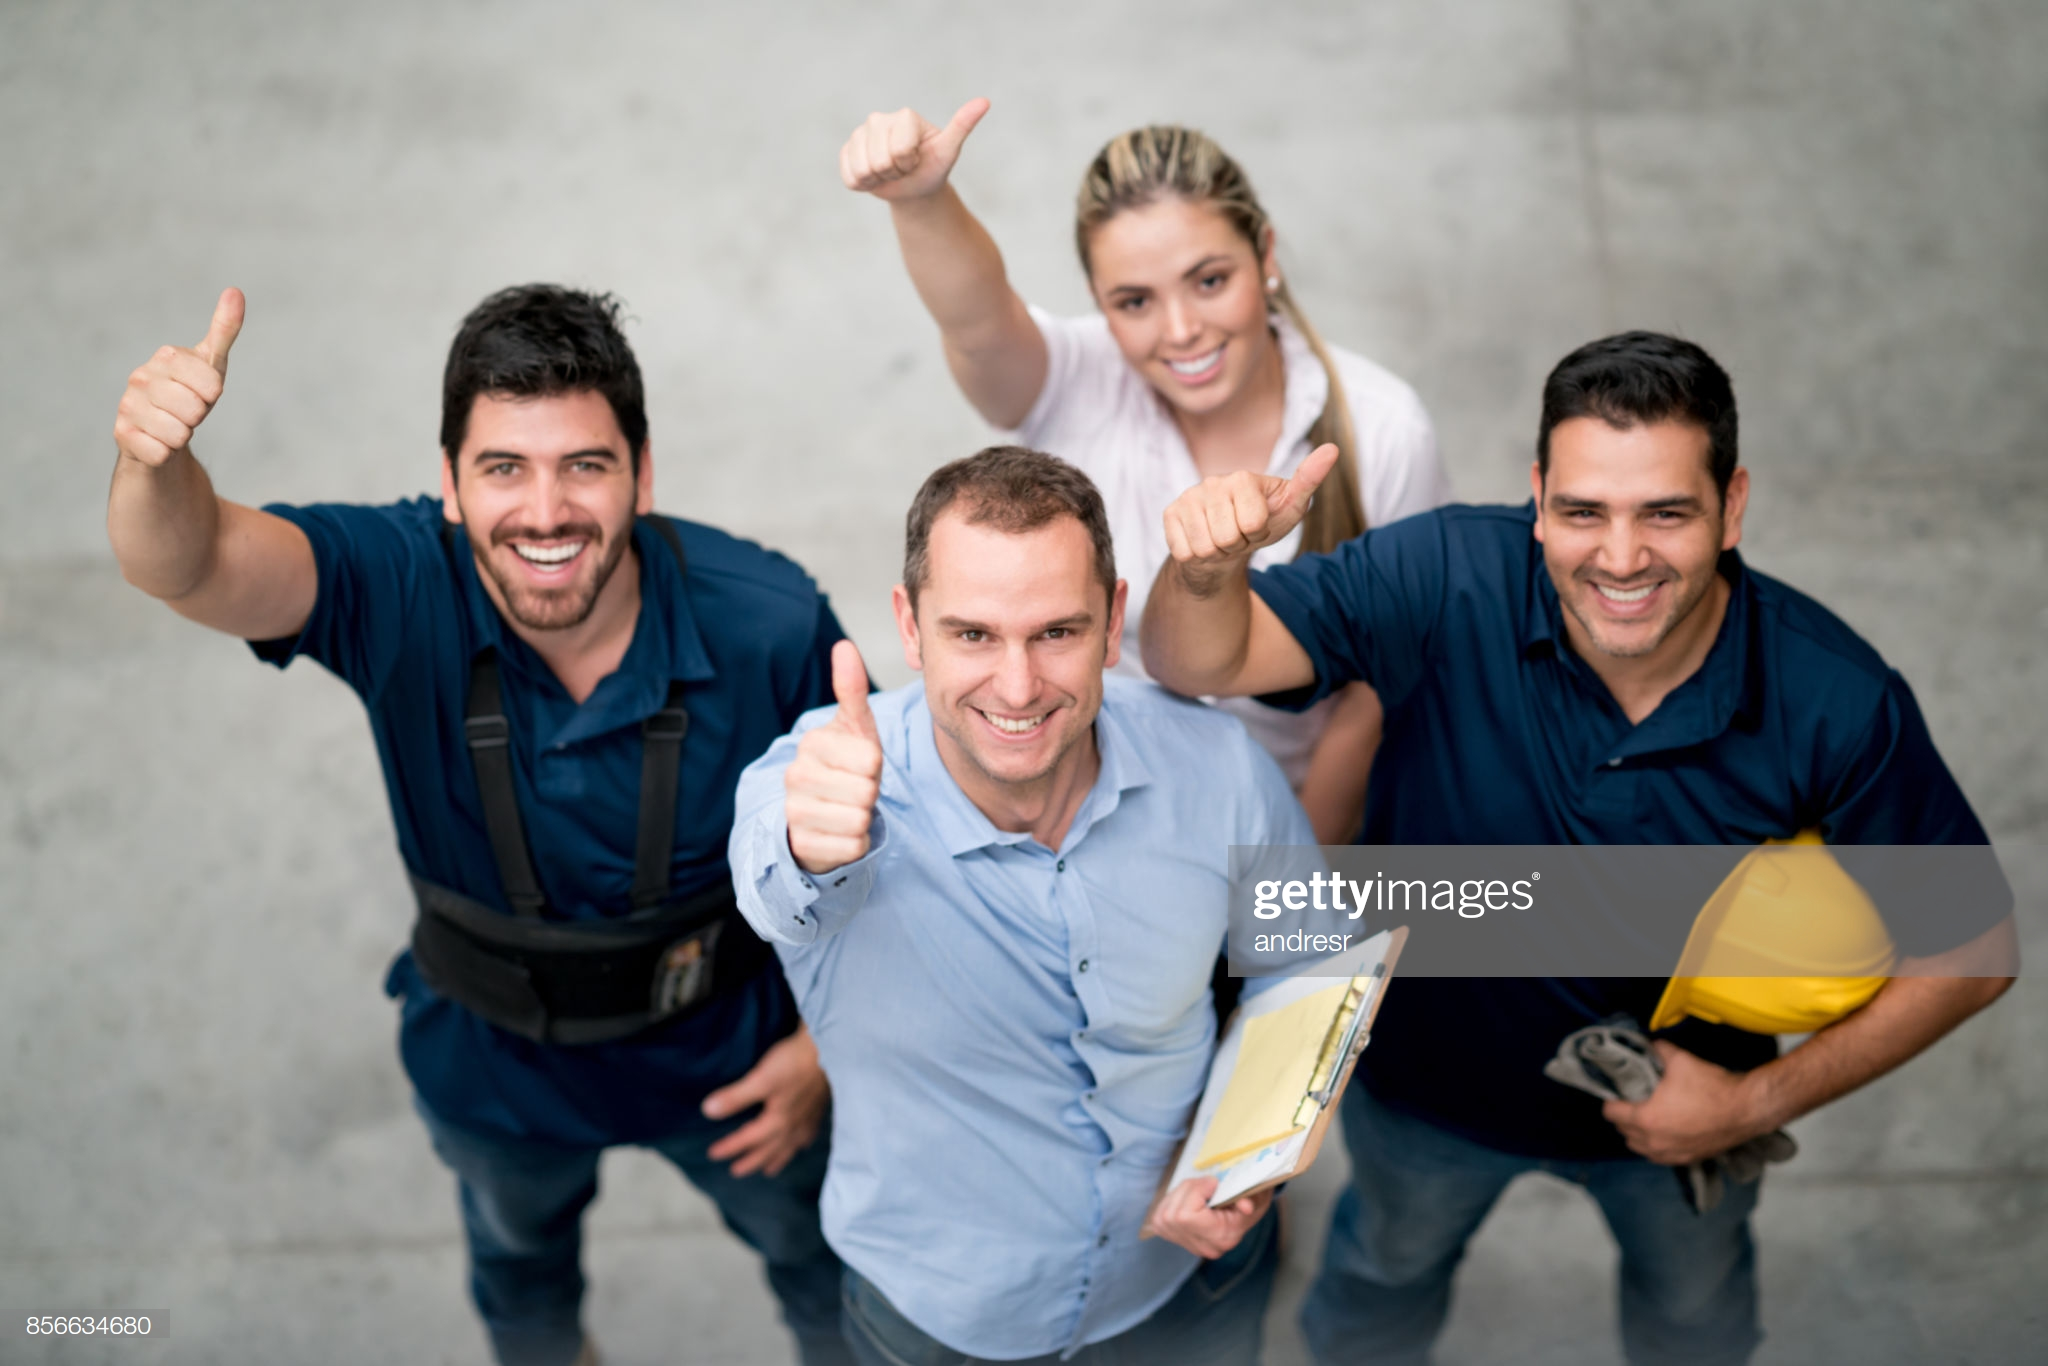thumbsup: (113, 287, 247, 467), (783, 637, 882, 861), (1163, 442, 1339, 563), (840, 96, 990, 195)
